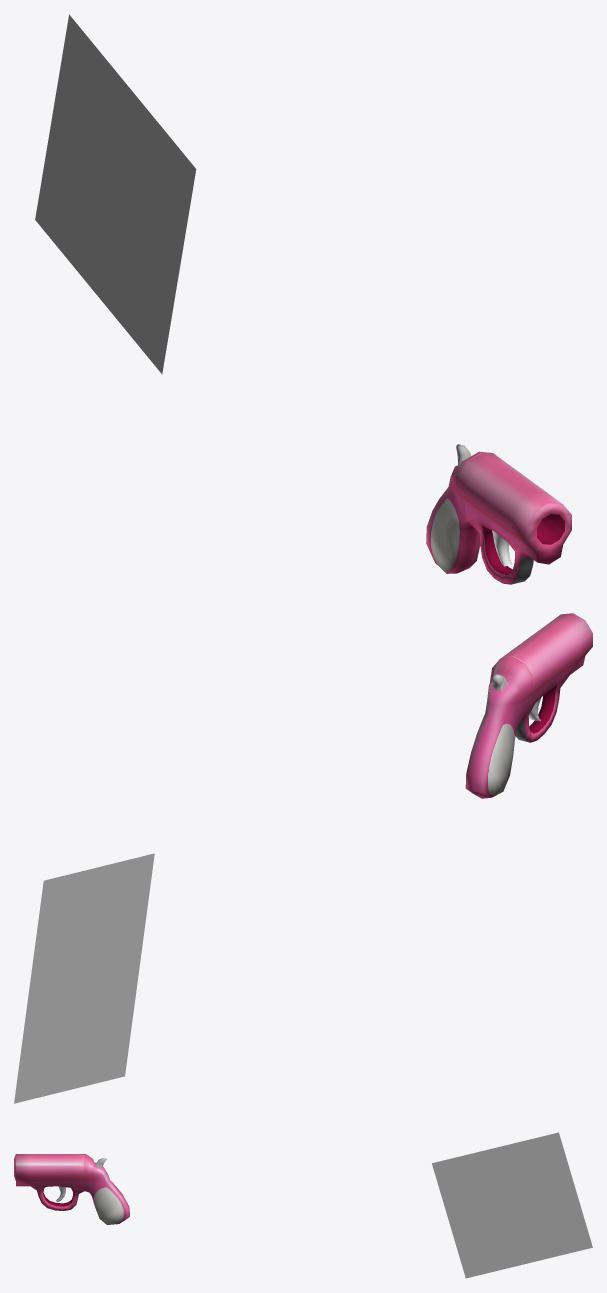
The model's file is Gun.FBX.
3 views of the same model, one above another, from view 1: azimuth 30°, elevation 25°; view 2: azimuth 150°, elevation 25°; view 3: azimuth 270°, elevation 25° (orthographic). The views are drawn at different scales.
Visible parts, largest first — view 1: Plane001, Sphere001; view 2: Plane001, Sphere001; view 3: Plane001, Sphere001.
Part boxes in pixels (x1,y1,x2,y2): Plane001: [35, 14, 196, 374]; Sphere001: [426, 444, 571, 584]; Plane001: [14, 853, 154, 1103]; Sphere001: [465, 613, 592, 798]; Plane001: [432, 1132, 592, 1278]; Sphere001: [14, 1154, 129, 1224].
Bounding box in the file's own units: 59.28 × 193 × 693.
